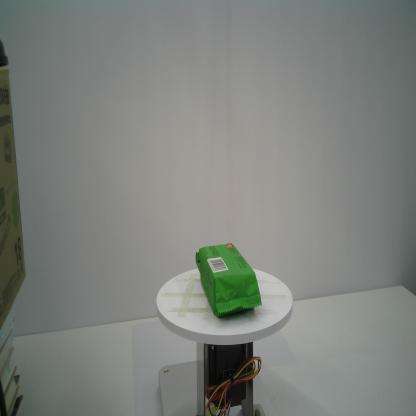Dessert: (195, 242, 262, 318)
